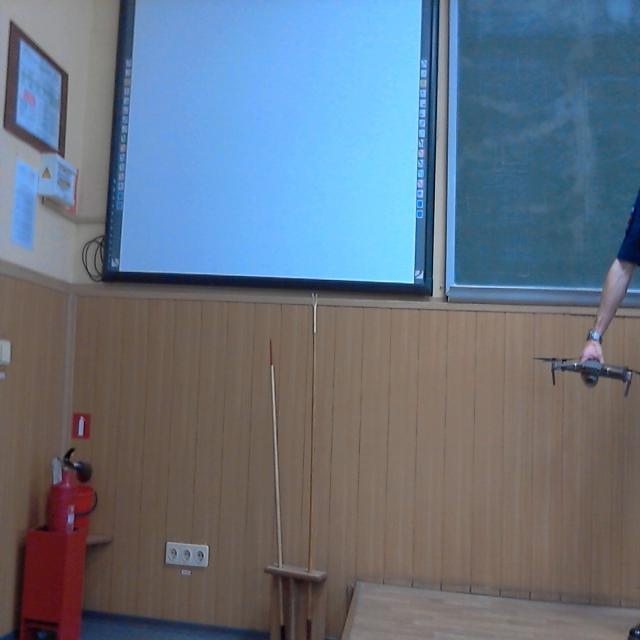drone: (526, 344, 640, 400)
